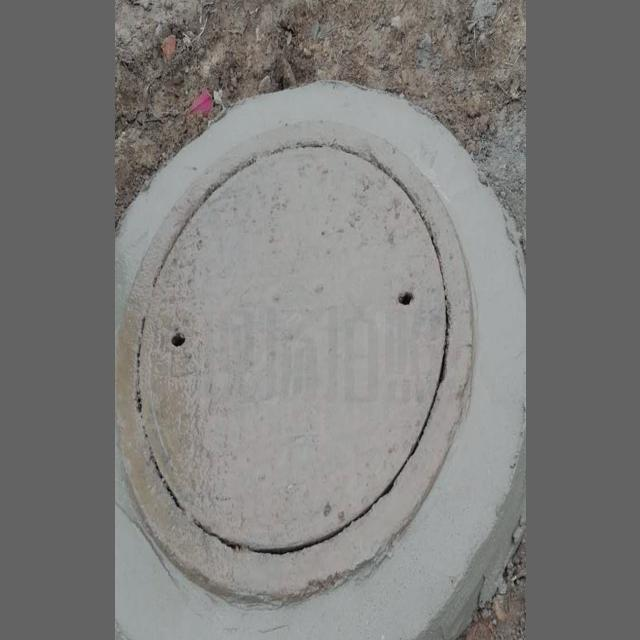good: (115, 119, 471, 602)
